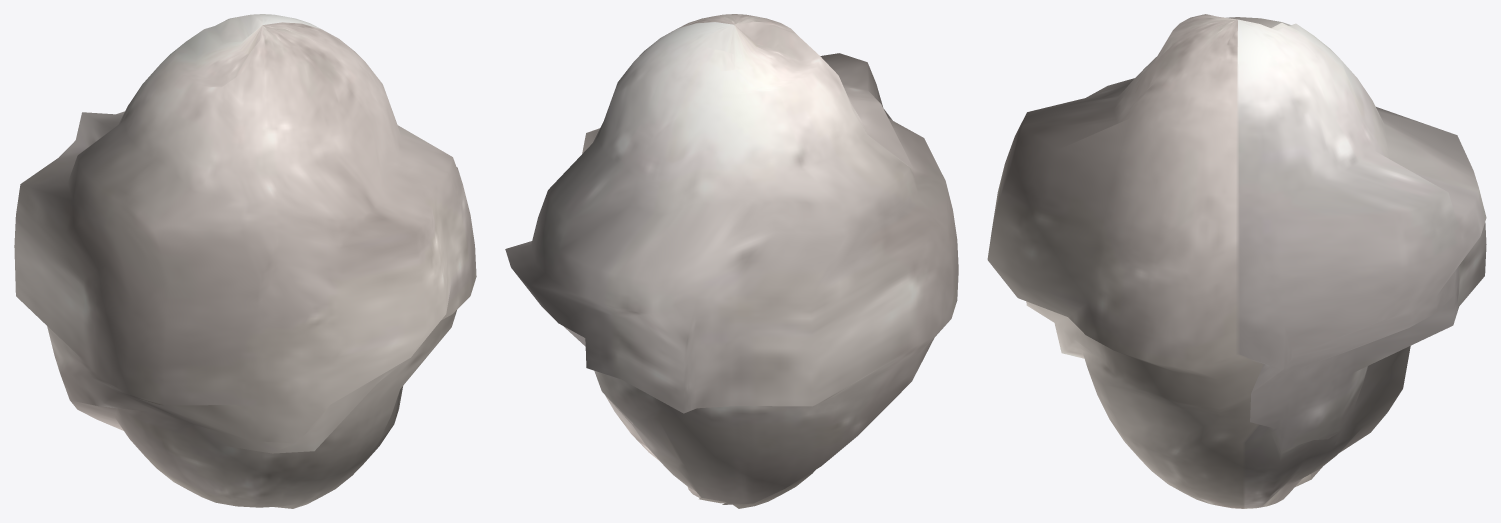
The model's file is asteroid_medium_mdl.fbx.
The picture shows the model from 3 angles, left to right: view 1: azimuth 30°, elevation 25°; view 2: azimuth 150°, elevation 25°; view 3: azimuth 270°, elevation 25°; orthographic projection. The views are drawn at different scales.
Parts seen in each view (by area): view 1: Sphere; view 2: Sphere; view 3: Sphere.
Boxes of the visible parts, box(x1,y1,x2,y2) form: Sphere: box(14, 14, 476, 508); Sphere: box(505, 14, 958, 508); Sphere: box(987, 14, 1486, 508).
Size of the model in its own units: 1.21 by 1.5 by 1.42.
1 material, 1 textured.
